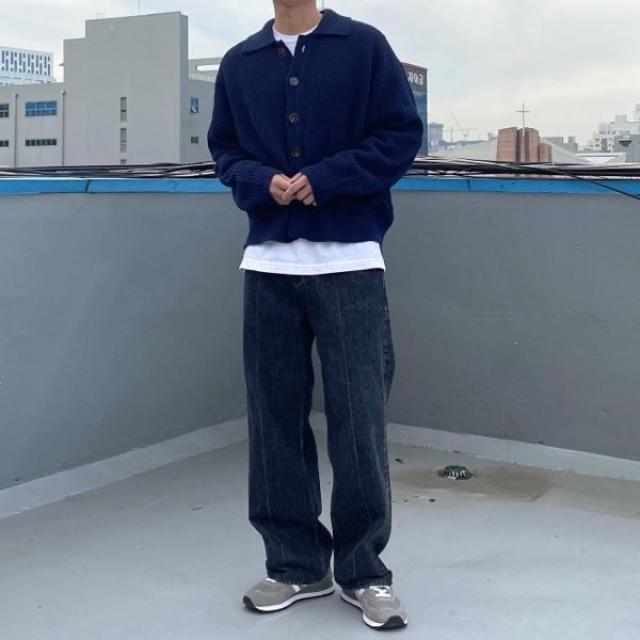cardigan: (206, 7, 424, 247)
denimpants: (244, 262, 395, 588)
